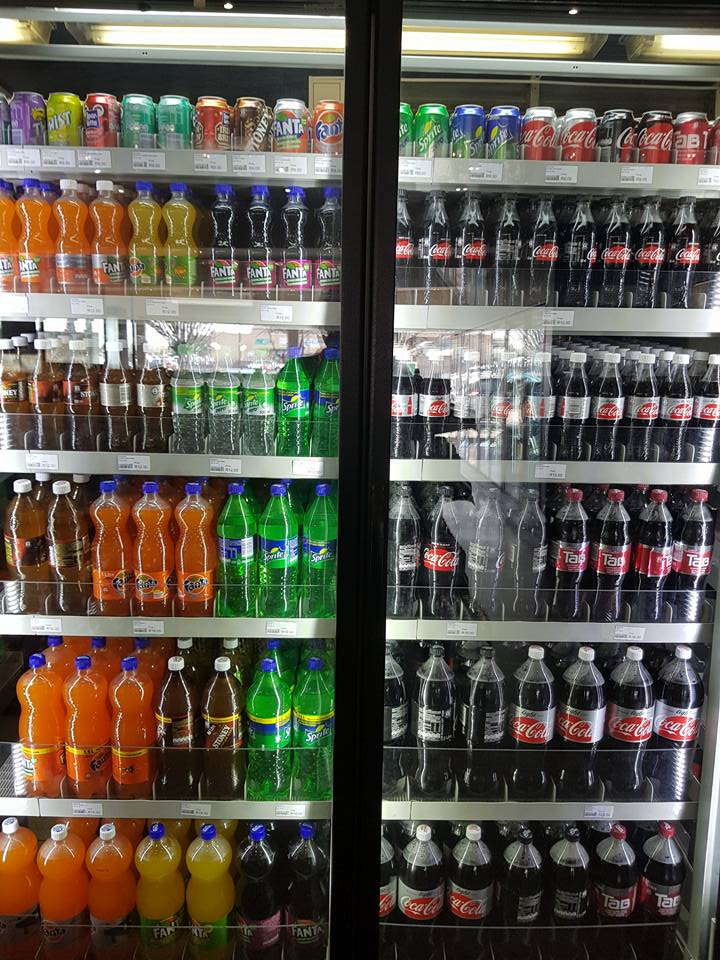cocacola: (422, 547, 462, 571), (635, 245, 666, 262), (601, 245, 631, 262)
fanta: (272, 118, 304, 137), (290, 924, 323, 938), (245, 263, 271, 278), (209, 263, 235, 277), (135, 577, 159, 592), (183, 577, 208, 591), (281, 267, 308, 279), (316, 267, 340, 279)
sprite: (417, 122, 443, 152), (305, 726, 330, 744), (310, 551, 333, 566), (282, 398, 304, 413), (262, 550, 284, 562), (210, 398, 228, 409)
stoney: (208, 724, 231, 748)
tab: (600, 891, 630, 910), (652, 892, 682, 908), (561, 548, 586, 565), (600, 551, 626, 567), (685, 551, 710, 567)
